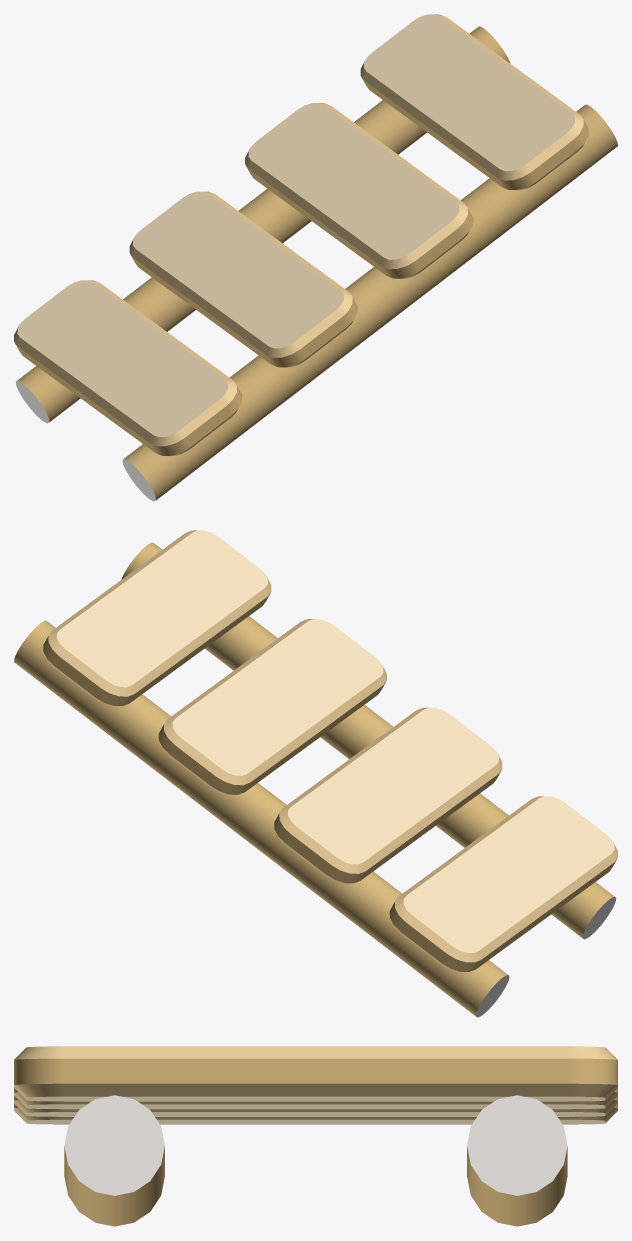
Rendered from inclineBridge.glb.
3 views of the same model, one above another, from view 1: azimuth 30°, elevation 25°; view 2: azimuth 150°, elevation 25°; view 3: azimuth 270°, elevation 25° (orthographic). The views are drawn at different scales.
Visible parts, largest first — view 1: Wood_Light, Log, Wood_Medium, Wood_Dark, Hidden; view 2: Wood_Light, Log, Wood_Medium, Wood_Dark, Hidden; view 3: Wood_Medium, Wood_Dark, Hidden, Wood_Light, Log.
Boxes of the visible parts, x1=… form: Wood_Light: x1=17, y1=14, x2=574, y2=436; Log: x1=16, y1=26, x2=617, y2=500; Wood_Medium: x1=14, y1=14, x2=584, y2=456; Wood_Dark: x1=14, y1=77, x2=588, y2=455; Hidden: x1=16, y1=381, x2=155, y2=501; Wood_Light: x1=57, y1=530, x2=614, y2=952; Log: x1=14, y1=542, x2=615, y2=1016; Wood_Medium: x1=47, y1=530, x2=617, y2=972; Wood_Dark: x1=43, y1=593, x2=617, y2=971; Hidden: x1=476, y1=897, x2=615, y2=1017; Wood_Medium: x1=14, y1=1046, x2=617, y2=1122; Wood_Dark: x1=14, y1=1058, x2=617, y2=1107; Hidden: x1=64, y1=1095, x2=567, y2=1195; Wood_Light: x1=26, y1=1096, x2=605, y2=1124; Log: x1=64, y1=1146, x2=567, y2=1226.
Size of the model in its own units: 2.09 by 1.22 by 1.2.
